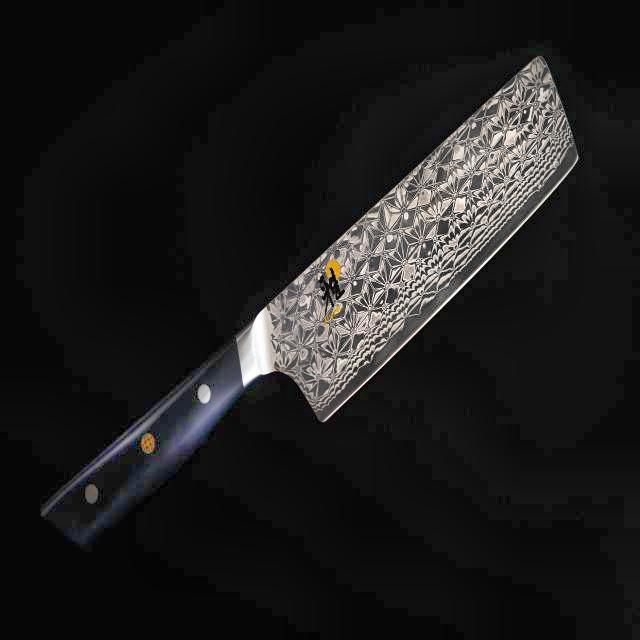knife: (32, 45, 584, 562)
